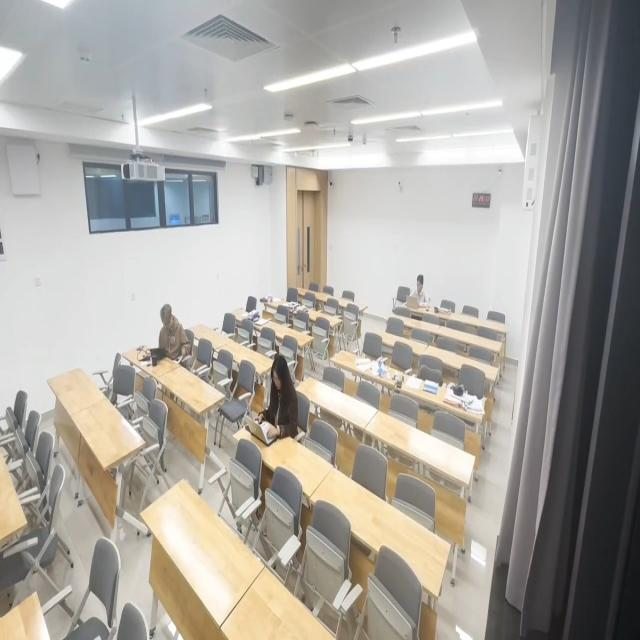Non-empty: (236, 411, 335, 495), (393, 370, 490, 417), (329, 347, 408, 385), (122, 338, 182, 377), (227, 301, 278, 333), (398, 299, 453, 323), (262, 294, 304, 316)
empty: (311, 465, 450, 596), (142, 478, 266, 620), (217, 564, 333, 638), (366, 409, 475, 485), (70, 396, 146, 470), (299, 374, 381, 430), (160, 364, 226, 412), (422, 347, 499, 386), (47, 366, 106, 414), (440, 326, 506, 354), (375, 332, 431, 358)
